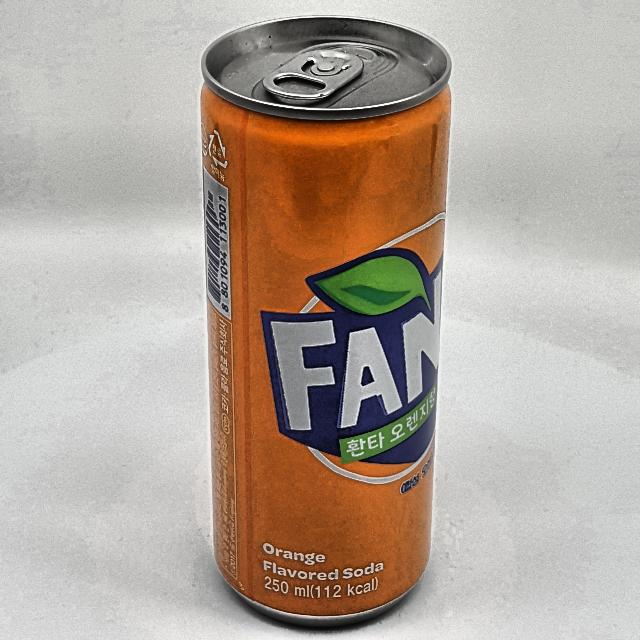fantaorange: (201, 16, 451, 626)
